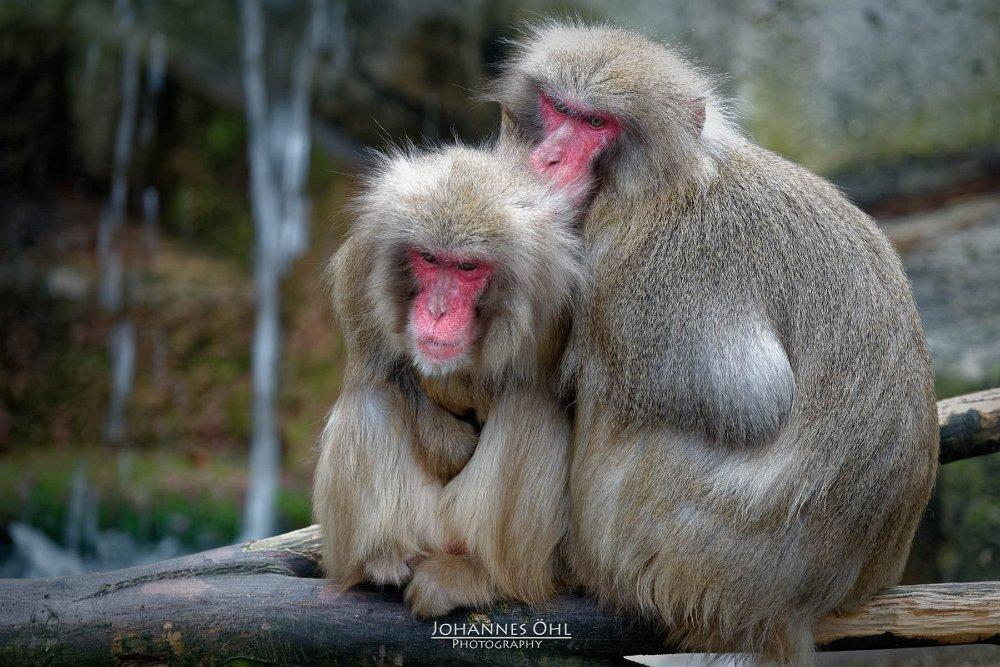monkey: (307, 26, 942, 667)
